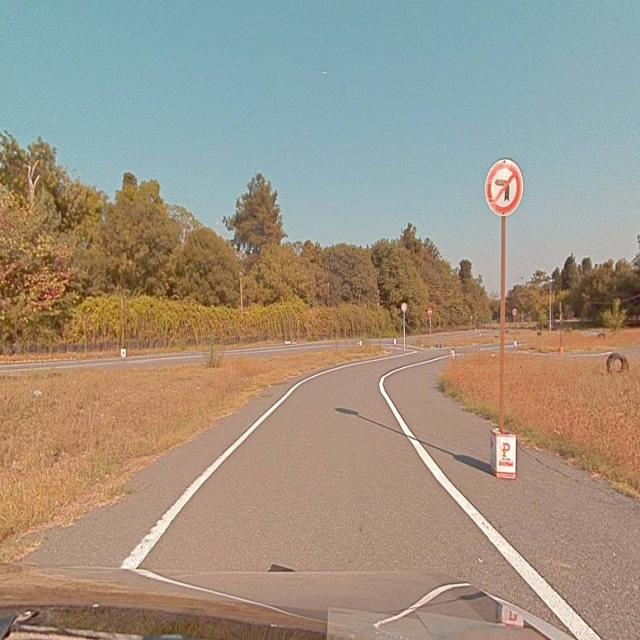soladonulmez: (485, 159, 524, 216)
